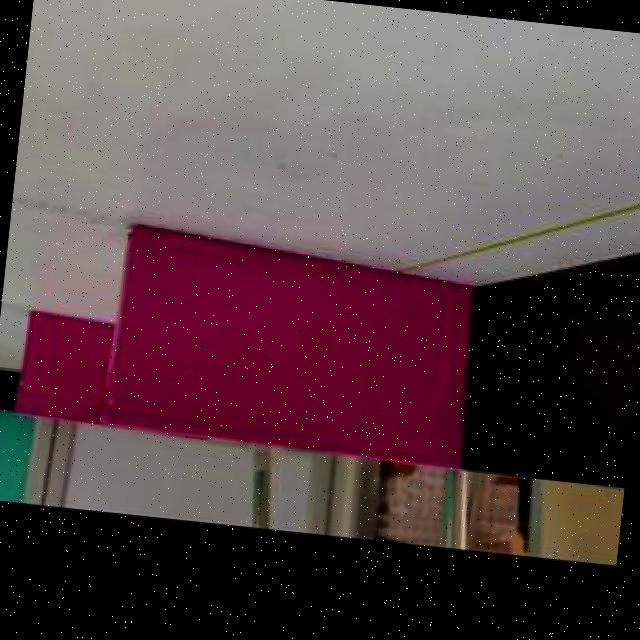xparking: (107, 234, 474, 466), (20, 313, 110, 419)
